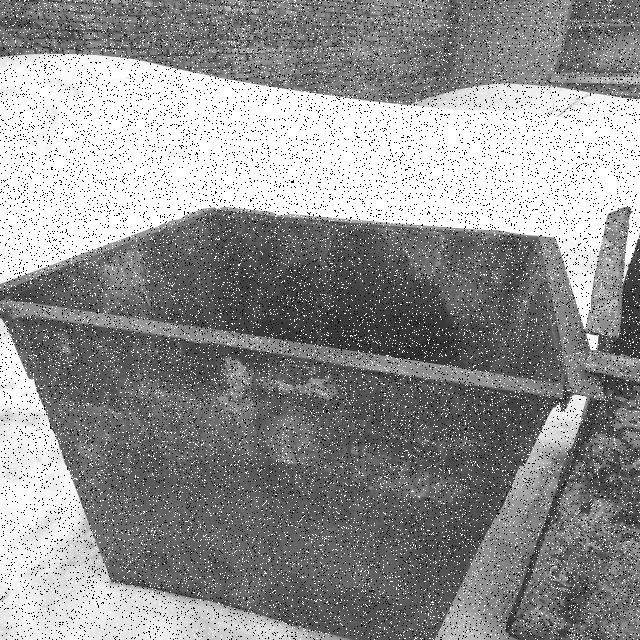Trashcan: (0, 177, 613, 640)
